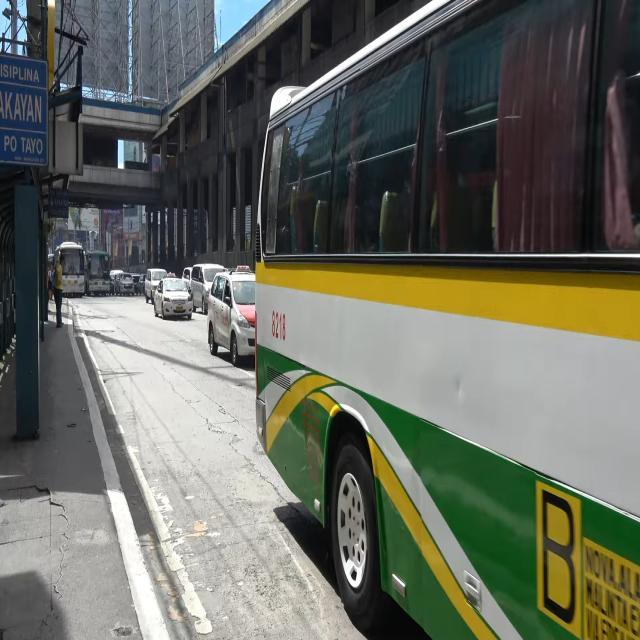bus: (254, 0, 640, 640), (58, 242, 85, 296), (86, 249, 111, 296)
car: (208, 267, 256, 365), (153, 276, 193, 322), (191, 262, 226, 314), (144, 267, 167, 304), (115, 272, 134, 296)
